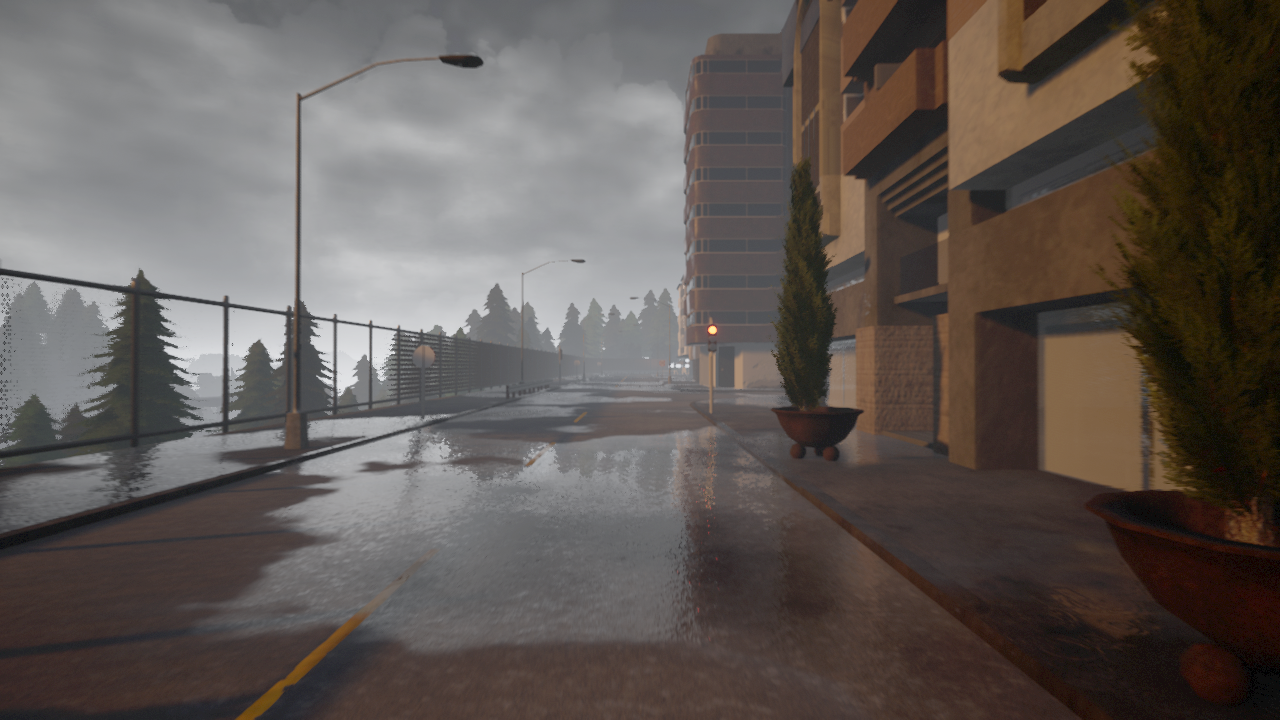red: (707, 323, 719, 353)
